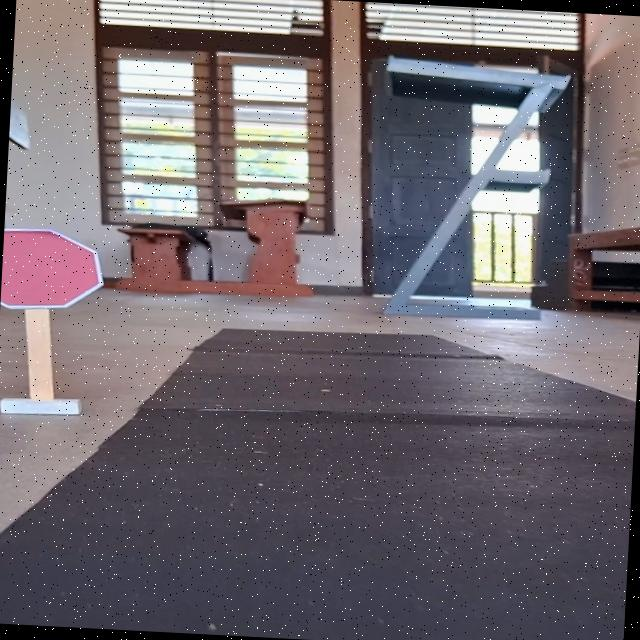Stop: (0, 224, 108, 317)
